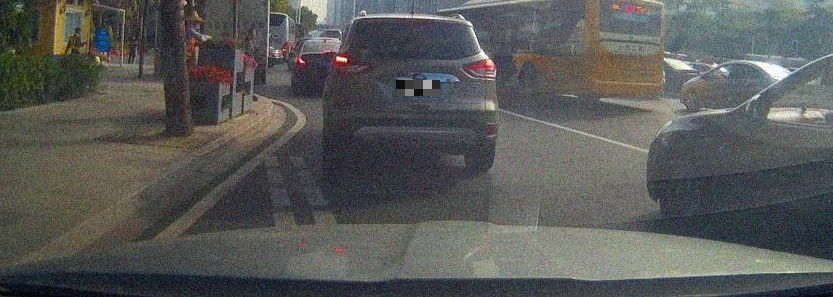L_light: (332, 53, 375, 75)
R_light: (461, 58, 496, 79)
T_light: (401, 20, 426, 24)
day-left: (324, 15, 497, 170)
plate_1: (396, 80, 440, 96)
